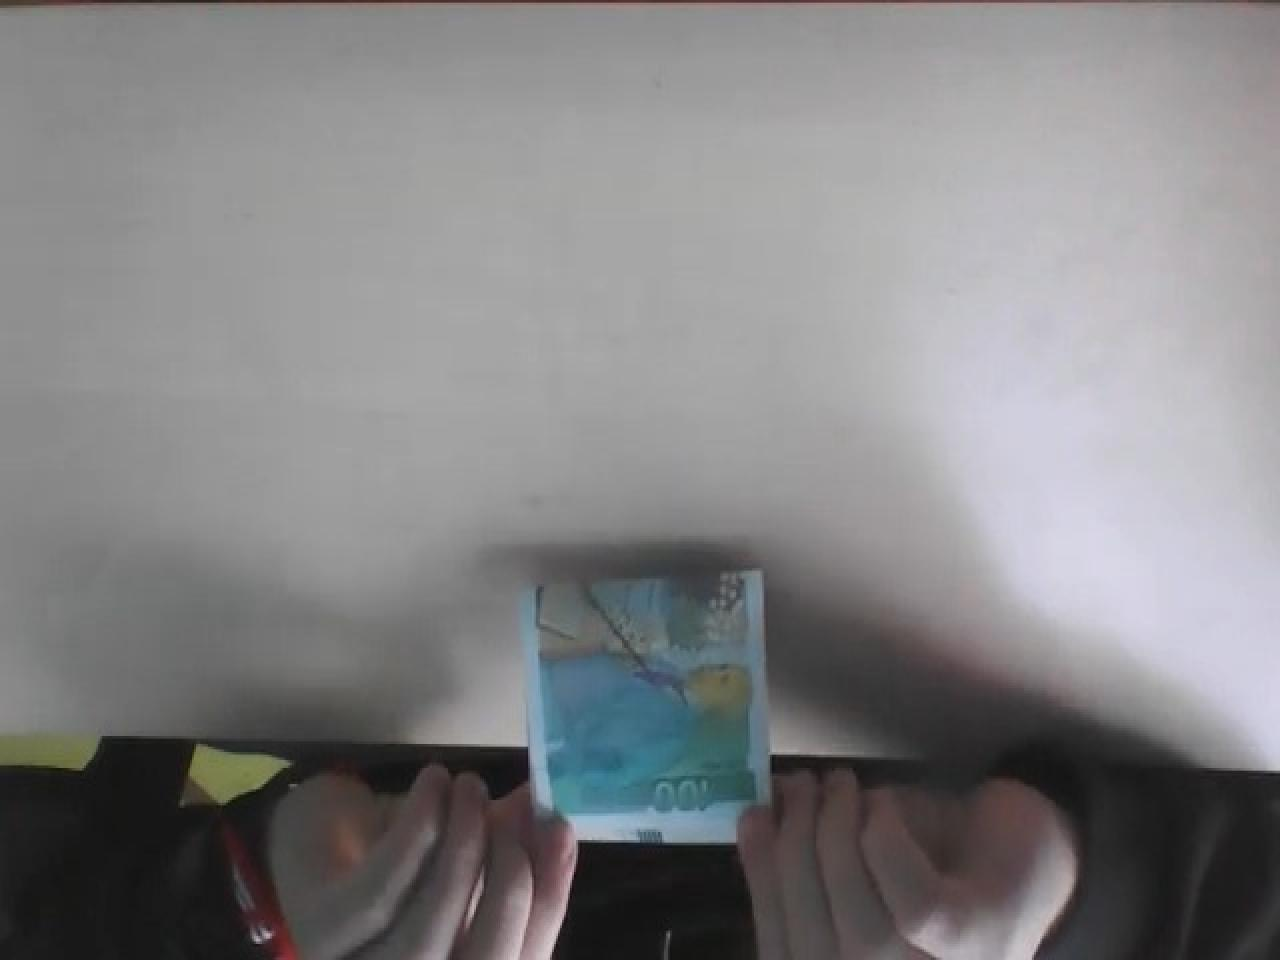100leva: (522, 566, 770, 845)
